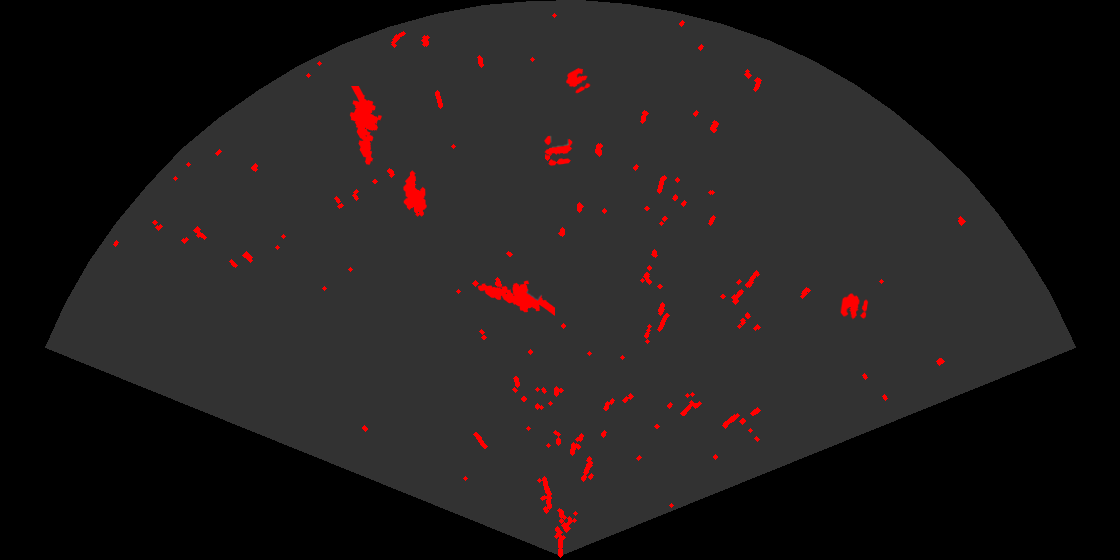AUV: (402, 169, 428, 218)
ball: (542, 134, 574, 167), (839, 292, 870, 321), (564, 66, 592, 95)
frogman: (476, 279, 555, 317), (348, 86, 384, 166)
